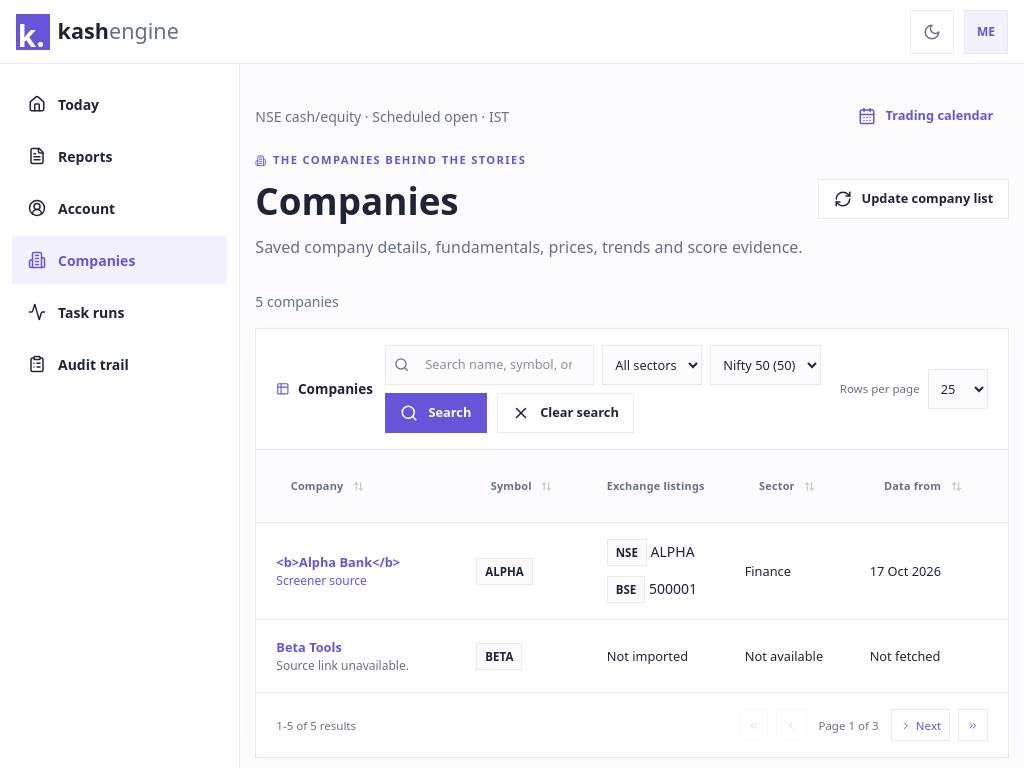
Test: lets staff refresh the exchange company catalog and reloads the directory
Click the button "Update company list": (913, 199) [818,179,1009,219]
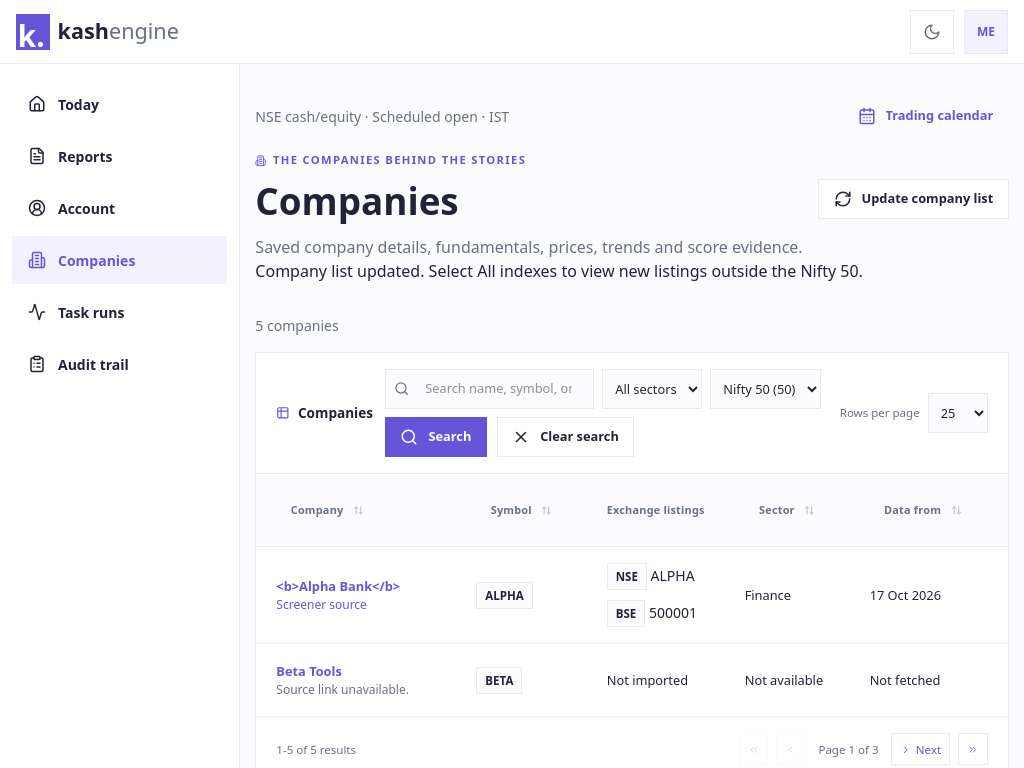
Expected: the text "Company list updated" is shown, [255,260,863,282]
